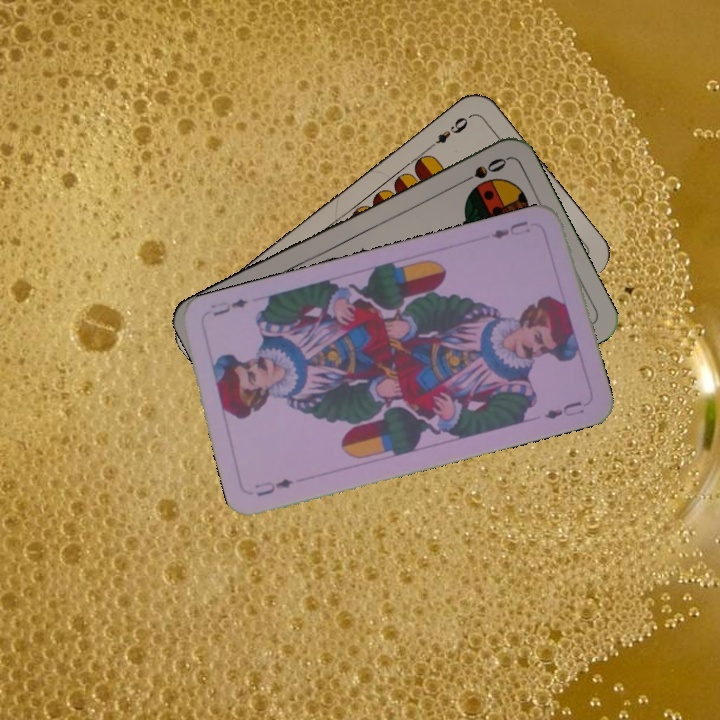E9: (424, 111, 474, 153)
EU: (487, 216, 531, 242), (251, 474, 296, 499)
SO: (454, 153, 509, 188)
